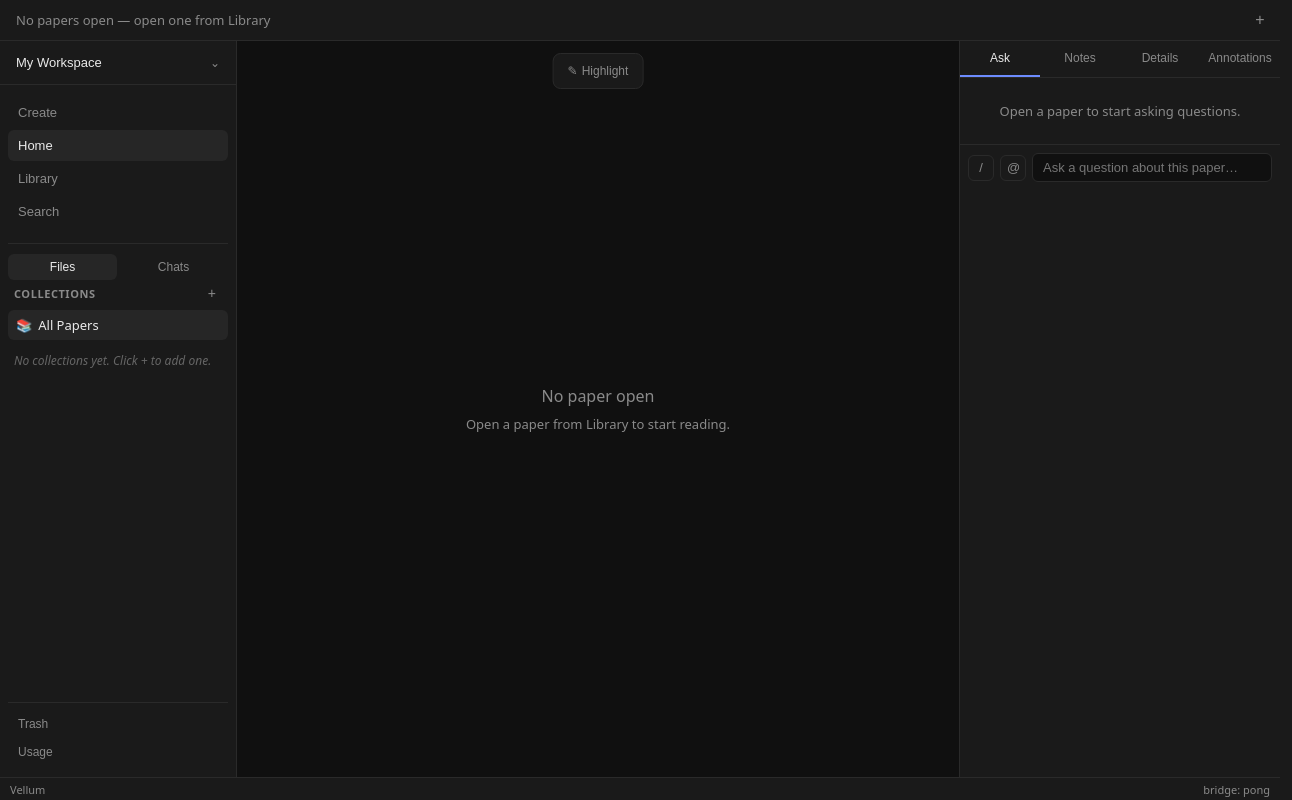
App shell › switches to Trash view when Trash footer item is clicked [L2-04]
This screenshot has width=1292, height=800.
Click the button "Trash".
click(118, 724)  # box [8,711,228,737]
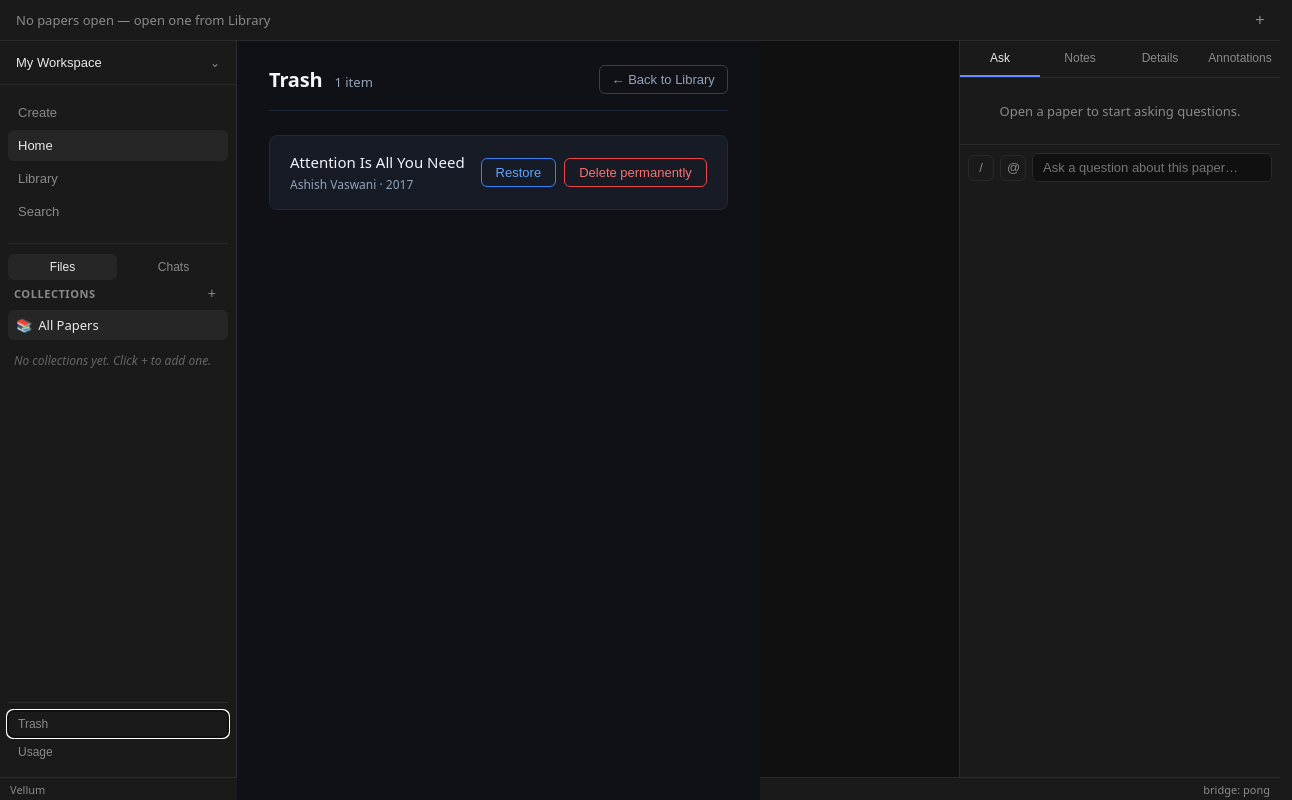
Check: the text "Attention Is All You Need" is shown, box [290,152,465,172]
